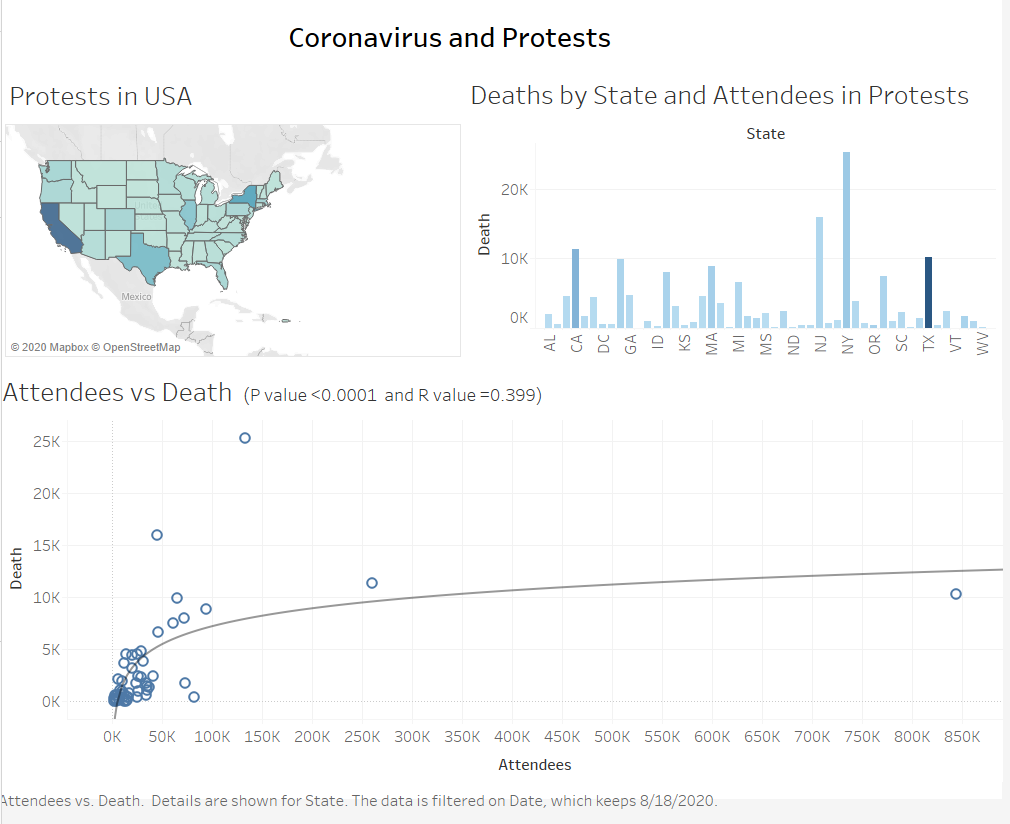

What the dashboard file says about the page in this screenshot:
{"tool":"tableau","page":{"name":"Dashboard 1","canvas":[1000,800],"ordinal":0},"visuals":[{"type":"worksheet","box":[283,12,375,50]},{"type":"worksheet","title":"Sheet 2","mark":"Automatic","rows":["death"],"cols":["state"],"box":[464,74,530,284]},{"type":"worksheet","title":"Sheet 1","mark":"Automatic","box":[3,75,456,283]}]}

Visuals, with their boxes in screenshot pixels (x1, y1, x2, y2), scaled from the page's 1000x800 canvas onto the 1010x824 screenshot:
worksheet: 286:12:665:64
"Sheet 2" worksheet: 469:76:1004:369
"Sheet 1" worksheet: 3:77:464:369
